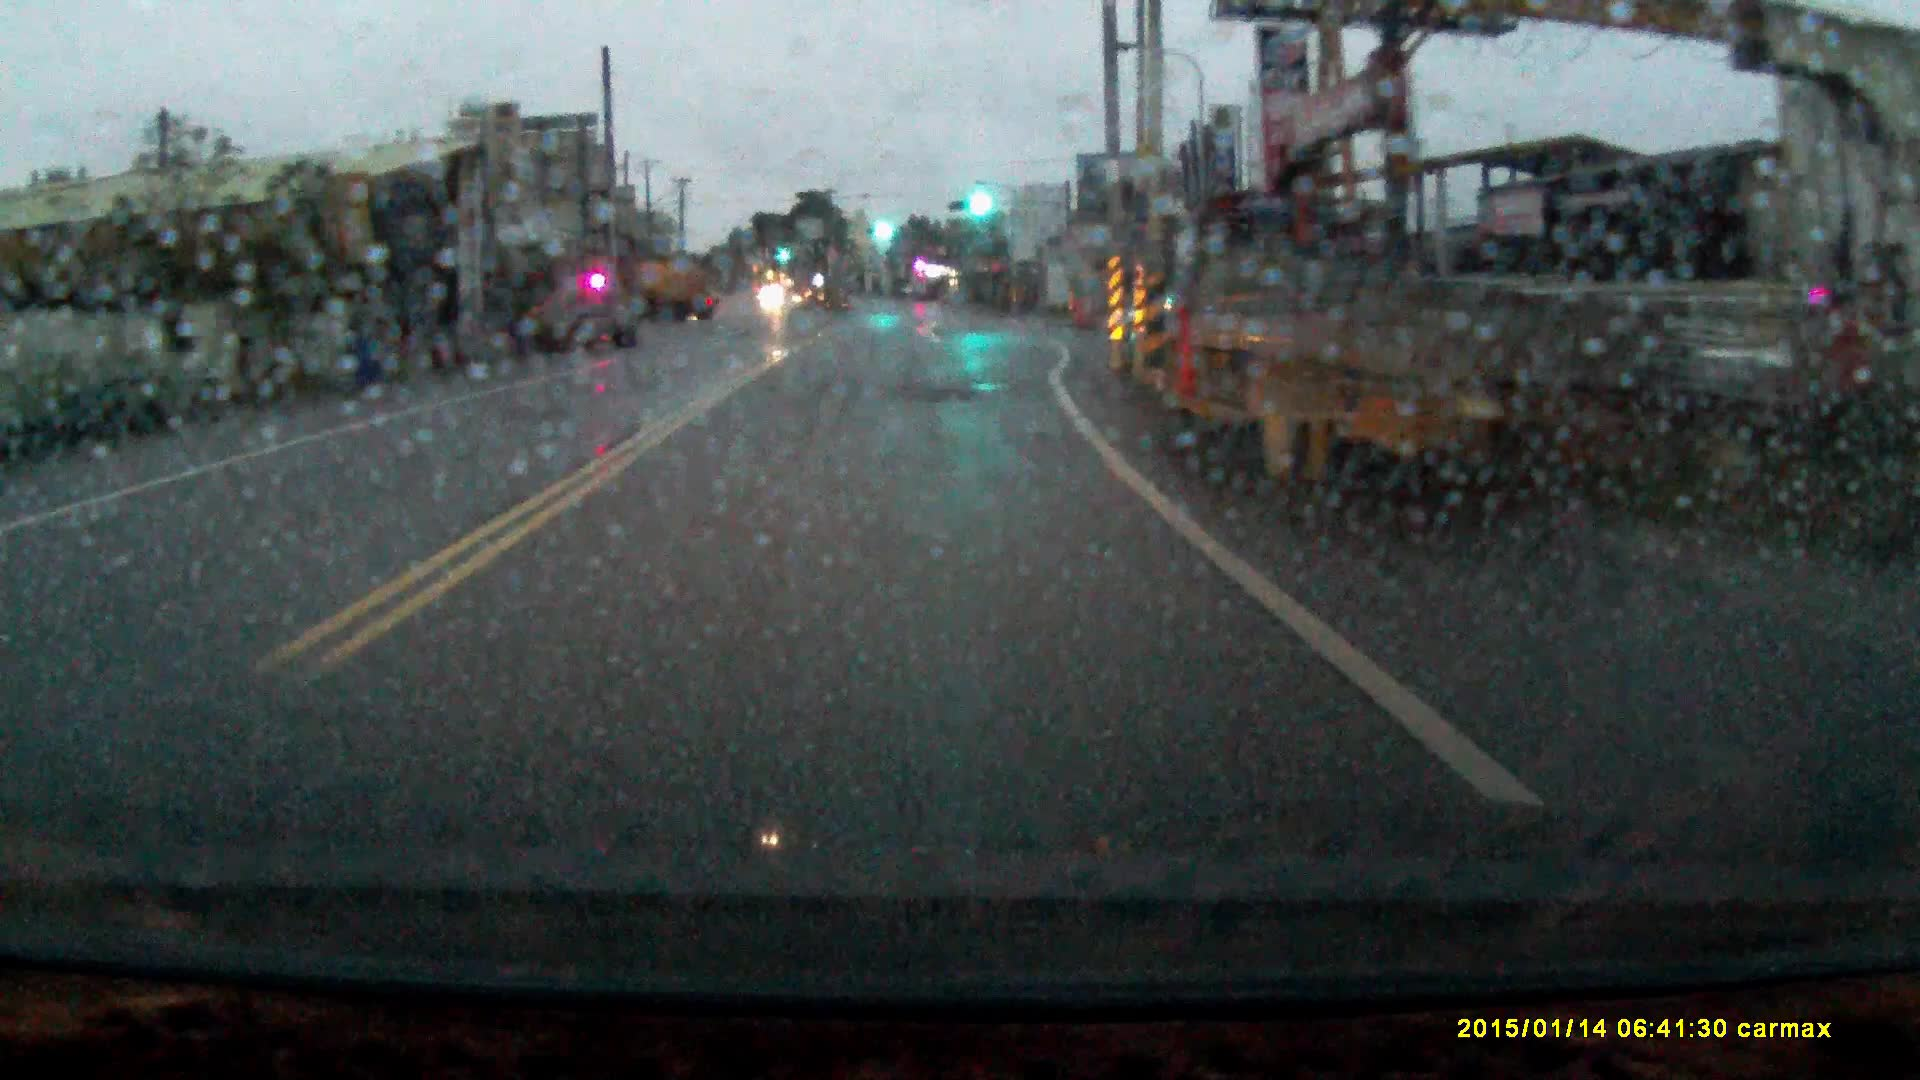vehicle: (1156, 204, 1652, 524), (615, 255, 709, 324), (567, 303, 640, 352)
